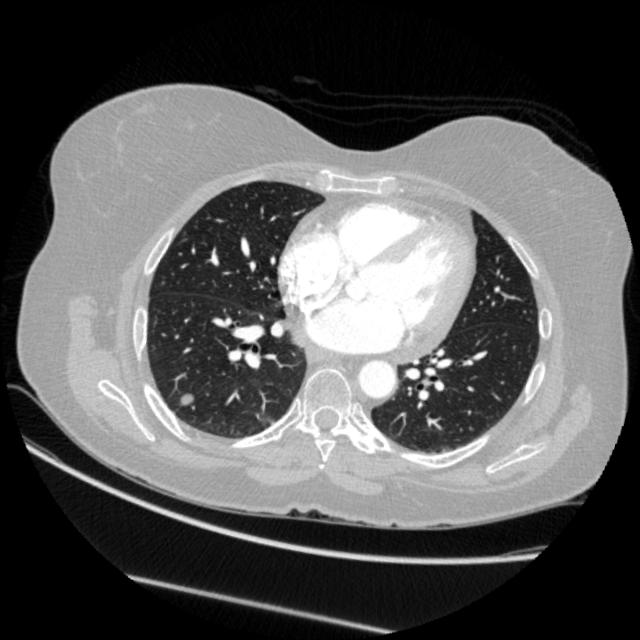nodule: (170, 382, 200, 412)
